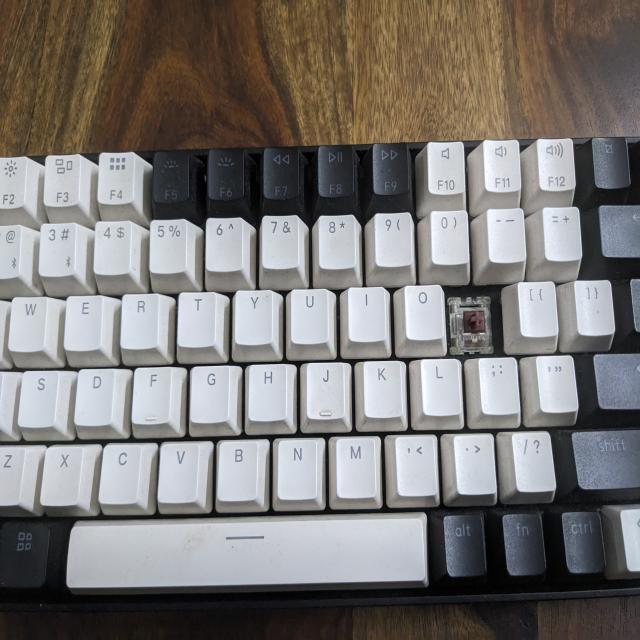C: (446, 296, 494, 352)
